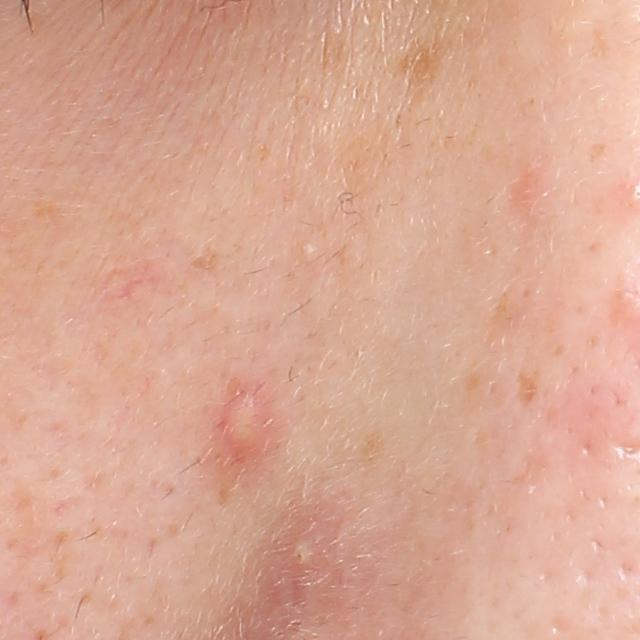comedo: (297, 240, 313, 255)
melasma: (400, 37, 447, 88), (513, 363, 540, 407), (191, 246, 224, 274), (357, 428, 383, 463)
papule: (218, 394, 270, 466)
